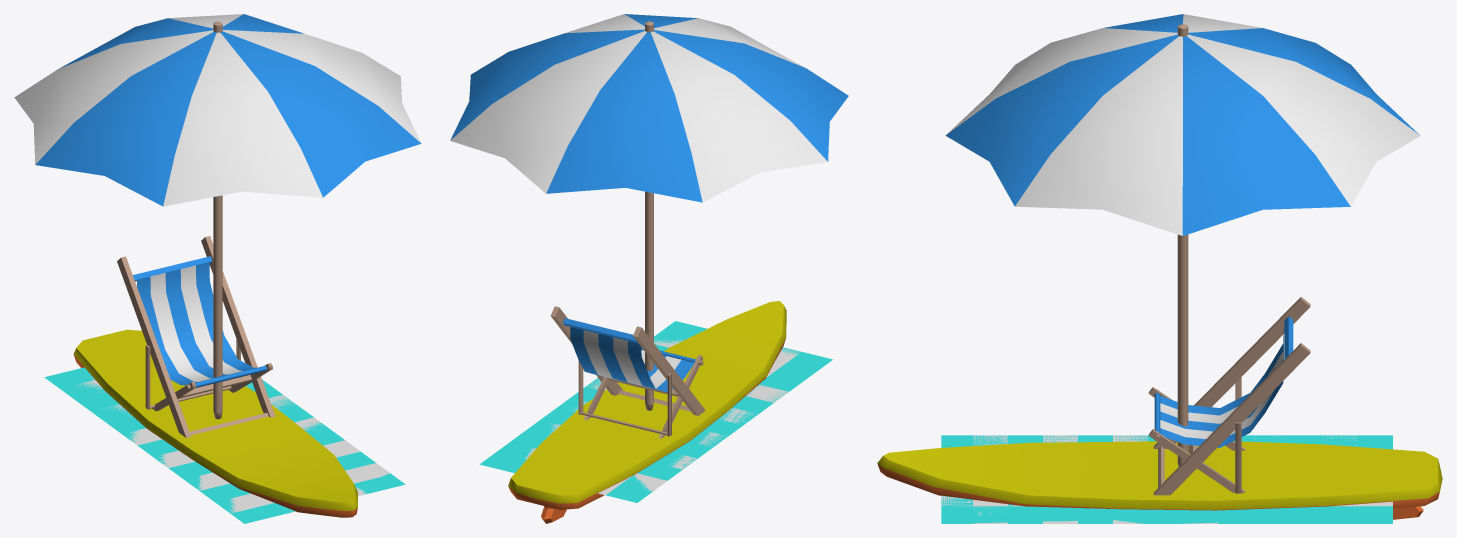
Rendered from polybeach_props.fbx.
3 views of the same model, side by side, from view 1: azimuth 30°, elevation 25°; view 2: azimuth 150°, elevation 25°; view 3: azimuth 270°, elevation 25° (orthographic). The views are drawn at different scales.
Parts seen in each view (by area): view 1: beach_umbrella, surfboard, beach_chair, beach_towel01, beach_towel02; view 2: beach_umbrella, surfboard, beach_chair, beach_towel02, beach_towel01; view 3: beach_umbrella, surfboard, beach_chair, beach_towel02, beach_towel01.
Boxes of the visible parts, x1=… form: beach_umbrella: x1=14, y1=14, x2=421, y2=419; surfboard: x1=73, y1=329, x2=357, y2=517; beach_chair: x1=117, y1=236, x2=275, y2=438; beach_towel01: x1=45, y1=367, x2=403, y2=523; beach_towel02: x1=44, y1=373, x2=405, y2=523; beach_umbrella: x1=450, y1=14, x2=848, y2=410; surfboard: x1=508, y1=301, x2=786, y2=523; beach_chair: x1=550, y1=306, x2=705, y2=438; beach_towel02: x1=480, y1=321, x2=832, y2=502; beach_towel01: x1=481, y1=321, x2=831, y2=502; beach_umbrella: x1=945, y1=14, x2=1420, y2=466; surfboard: x1=877, y1=441, x2=1442, y2=519; beach_chair: x1=1148, y1=297, x2=1310, y2=495; beach_towel02: x1=941, y1=435, x2=1392, y2=523; beach_towel01: x1=941, y1=435, x2=1392, y2=523.
Size of the model in its own units: 2 by 2.3 by 2.38.
